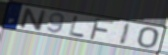9: (46, 12, 66, 35)
F: (88, 17, 116, 42)
I: (118, 22, 132, 46)
L: (68, 15, 86, 39)
N: (19, 6, 47, 32)
O: (136, 27, 160, 49)
